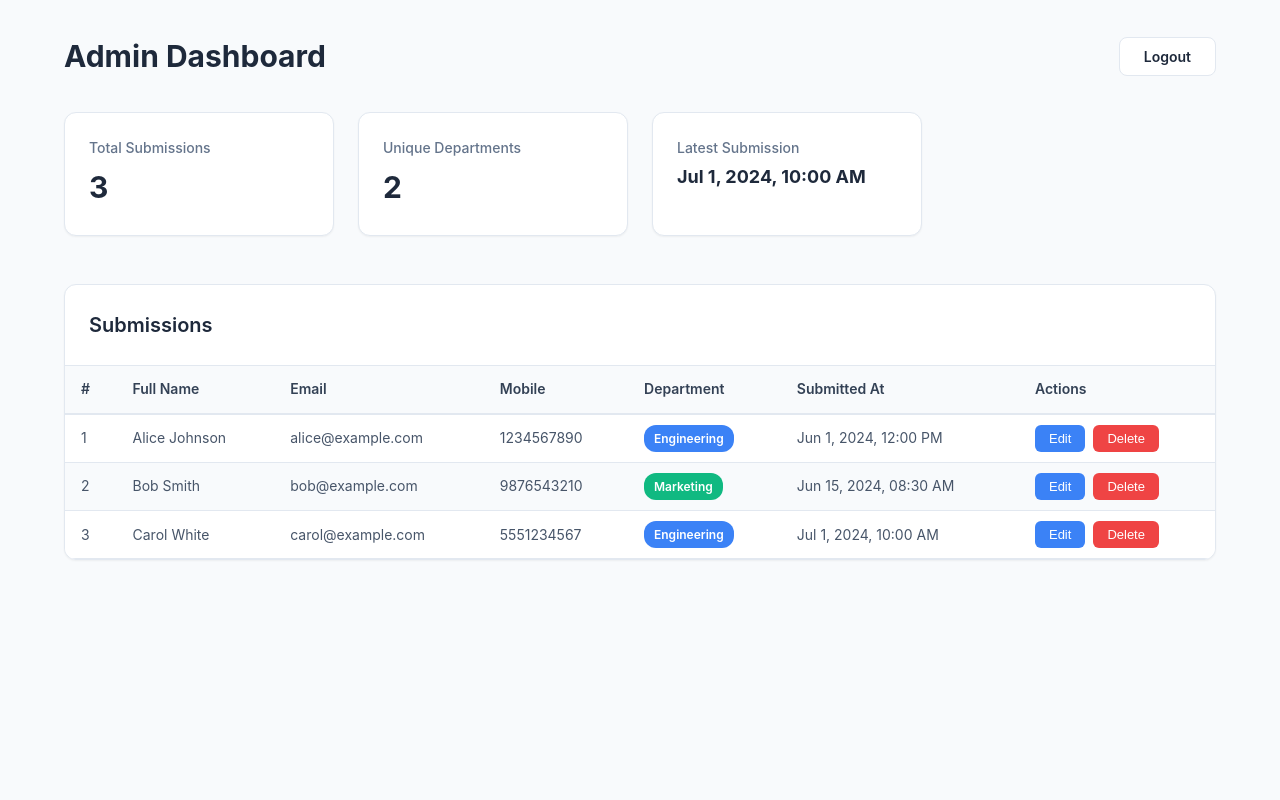
Test: AdminDashboard › edit modal › opens edit modal when edit button is clicked
Click the button with aria-label "edit alice johnson" at {"x": 1060, "y": 438}, box top-left (1035, 425), bottom-right (1085, 452)
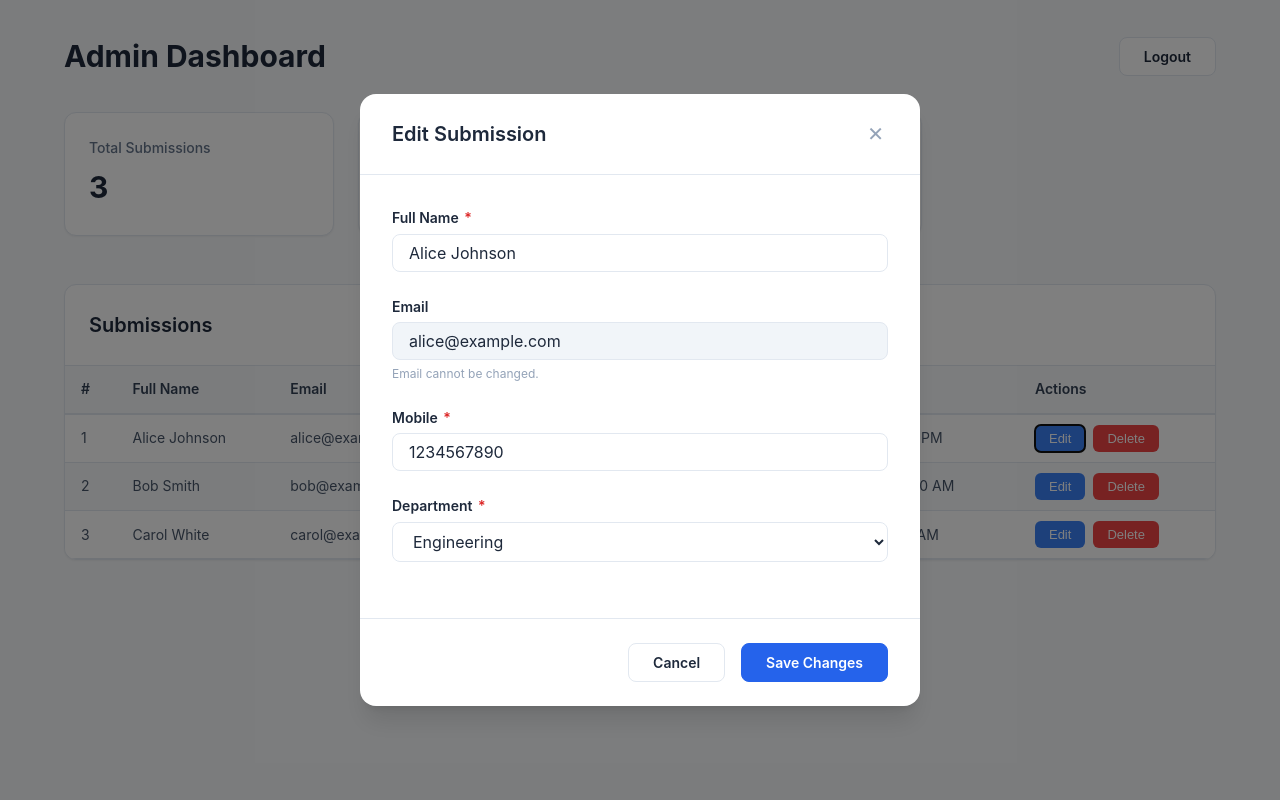
Expected: the dialog "Edit Submission" is shown, top-left (360, 94), bottom-right (920, 706)
Expected: the field showing "Alice Johnson" is shown, top-left (392, 234), bottom-right (888, 272)
Expected: the field showing "1234567890" is shown, top-left (392, 434), bottom-right (888, 472)
